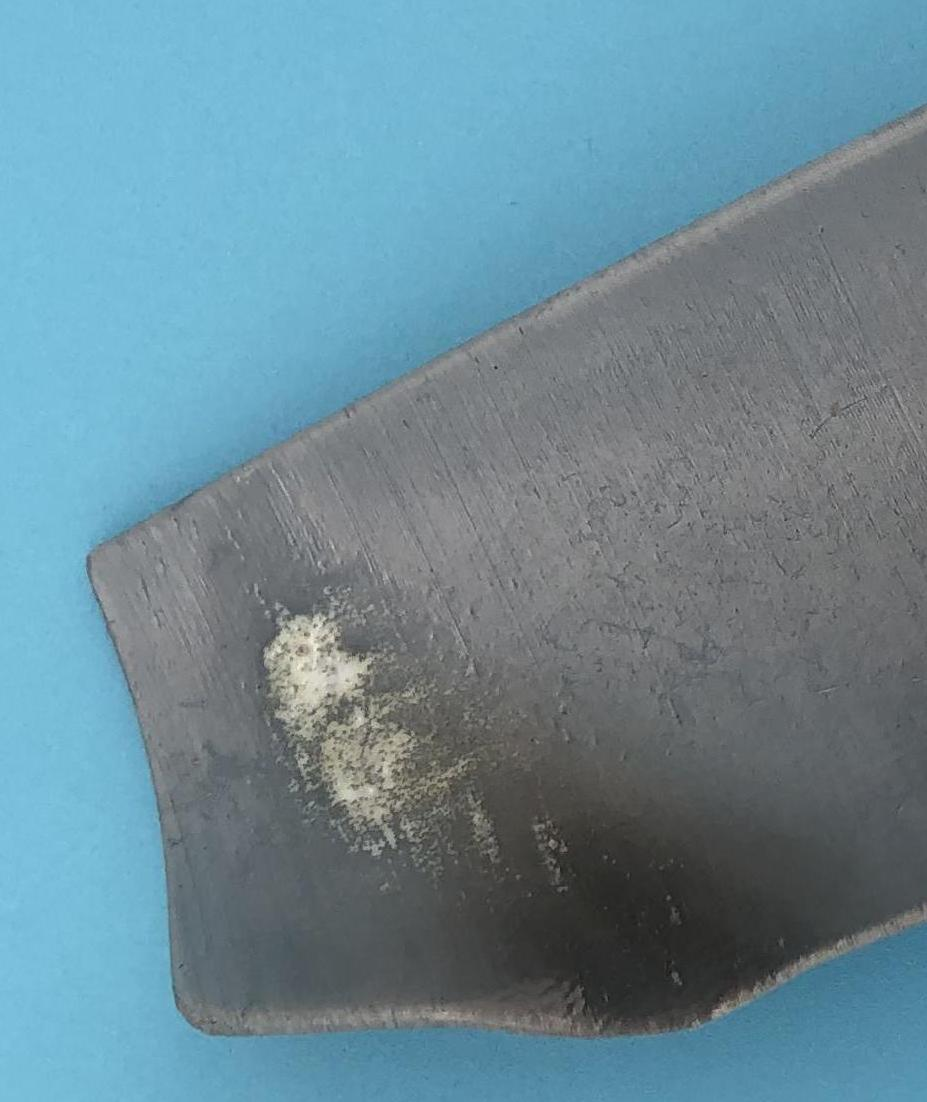ablation: (431, 740, 765, 981)
